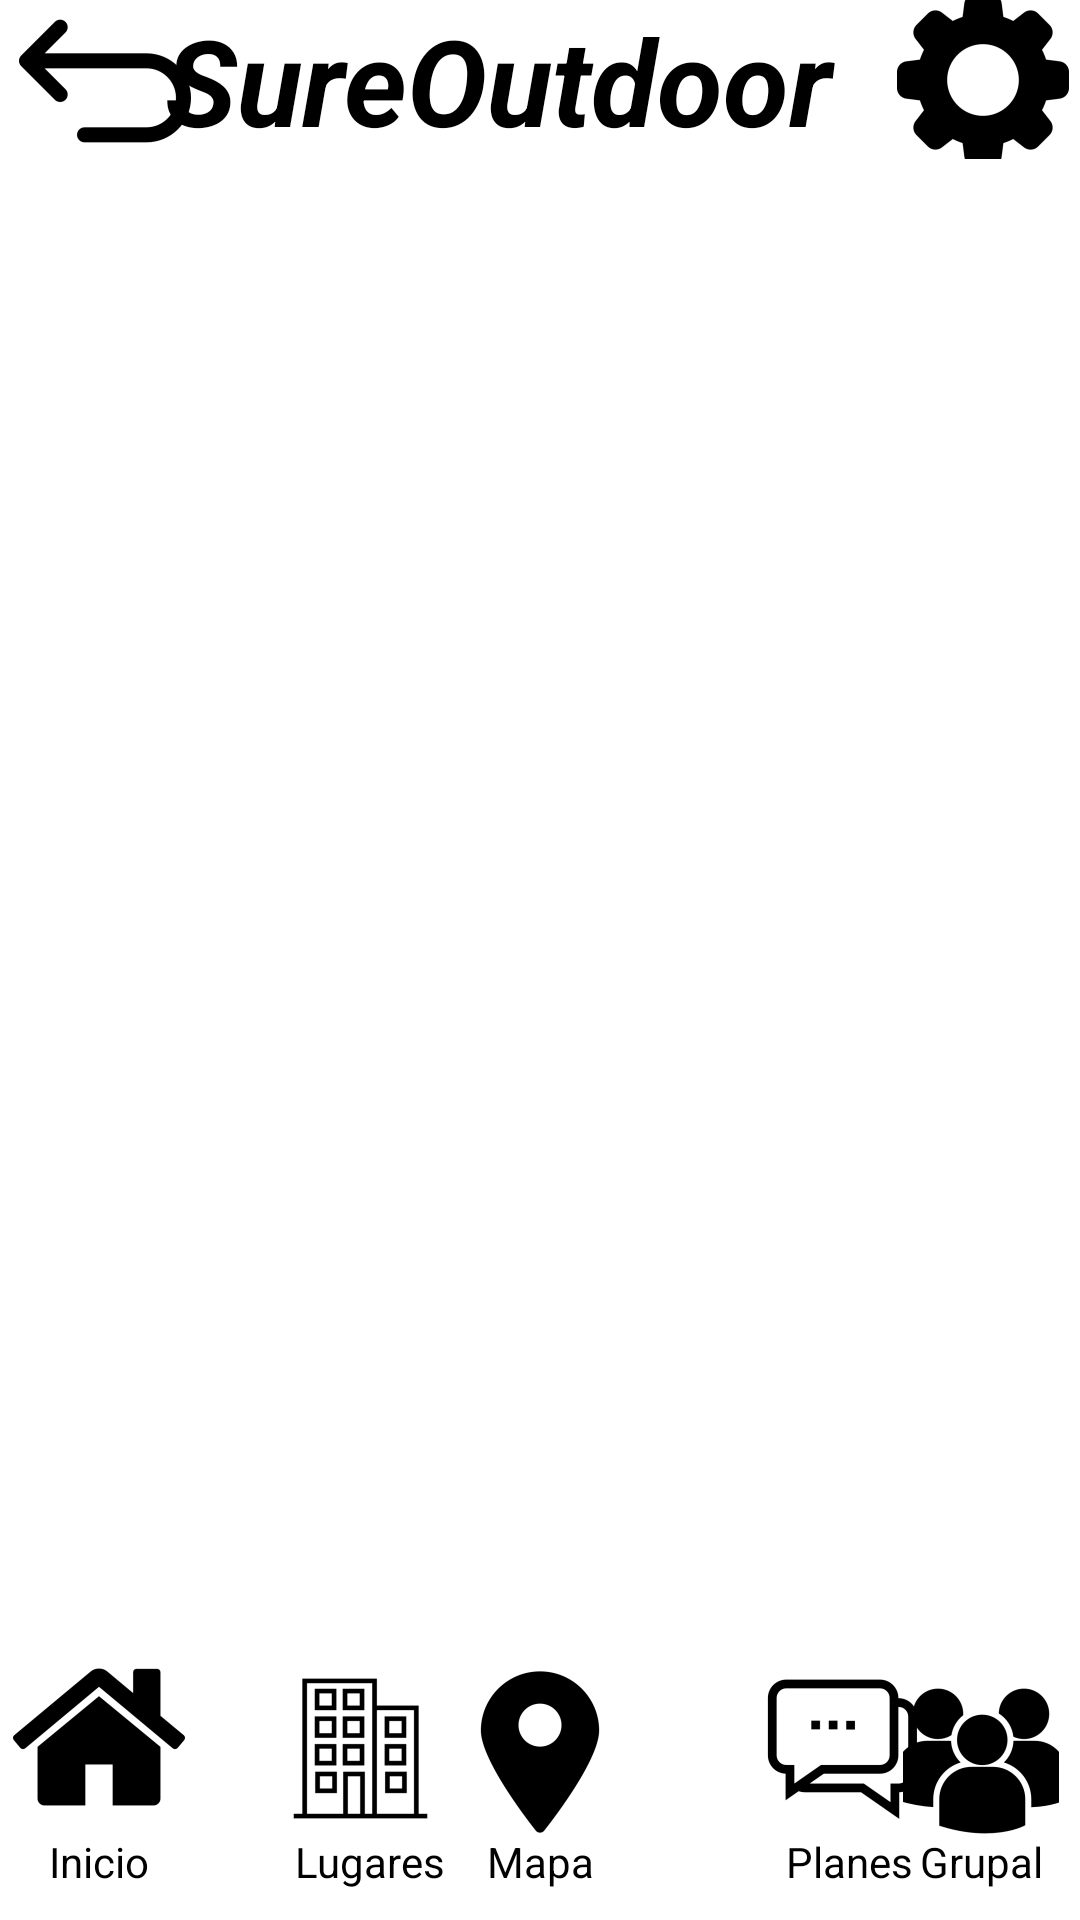

Screen size 1080 x 1920. Icon name, then its center in pixels as [x,y]:
Config: [983,79]
Vuelve: [114,81]
